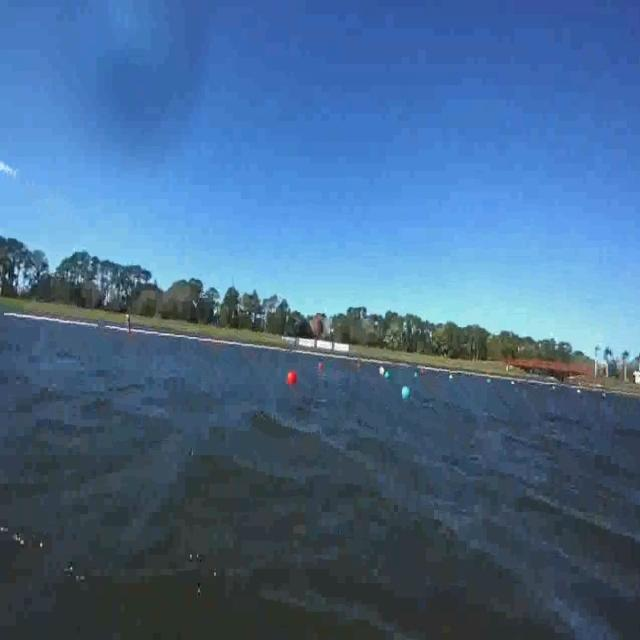green-buoy: (404, 382, 412, 397), (401, 385, 409, 399), (384, 368, 390, 384)
red-buoy: (317, 357, 327, 372), (287, 370, 297, 384)
